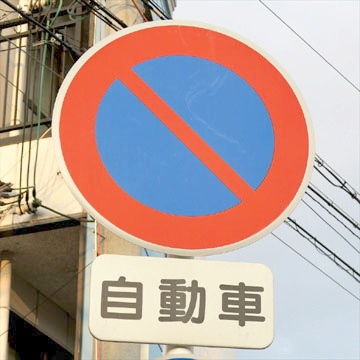Prohibition_sign: (51, 15, 321, 271)
